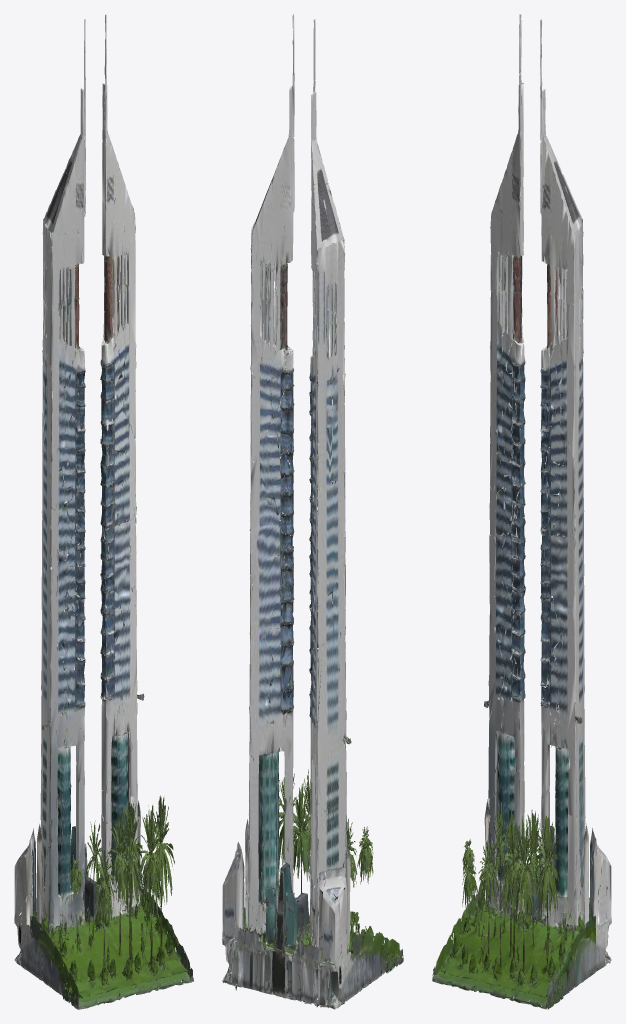
Rendered from emirates-tower-1.glb.
The picture shows the model from 3 angles, left to right: view 1: azimuth 30°, elevation 25°; view 2: azimuth 150°, elevation 25°; view 3: azimuth 330°, elevation 25°; orthographic projection.
Parts seen in each view (by area): view 1: Mesh_0; view 2: Mesh_0; view 3: Mesh_0.
Boxes of the visible parts, x1,y1,x2,y2 form: Mesh_0: (14, 14, 193, 1009); Mesh_0: (222, 14, 403, 1009); Mesh_0: (432, 14, 611, 1009).
Bounding box in the file's own units: 45 × 355 × 45.
Materials: 1 (1 with a texture image).
